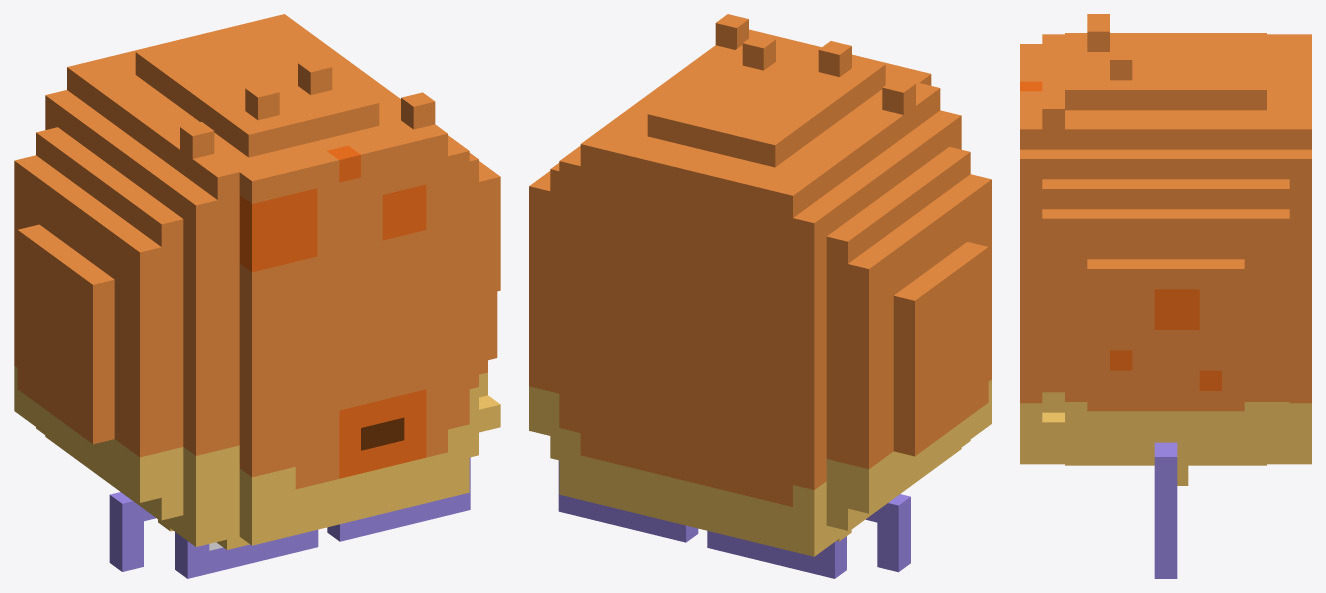
Rendered from pufferfish.glb.
3 renders of one model, left to right at view 1: azimuth 30°, elevation 25°; view 2: azimuth 150°, elevation 25°; view 3: azimuth 270°, elevation 25°, orthographic. The views are drawn at different scales.
Parts seen in each view (by area): view 1: base, glasses; view 2: base, glasses; view 3: base, glasses.
Boxes of the visible parts, left/top/right/bottom form: base: left=14, top=14, right=500, bottom=549; glasses: left=109, top=457, right=470, bottom=578; base: left=529, top=14, right=991, bottom=556; glasses: left=558, top=460, right=910, bottom=578; base: left=1020, top=14, right=1311, bottom=465; glasses: left=1154, top=442, right=1177, bottom=578.
Bounding box in the file's own units: 18.5 × 22 × 13.
13 materials, 13 textured.
